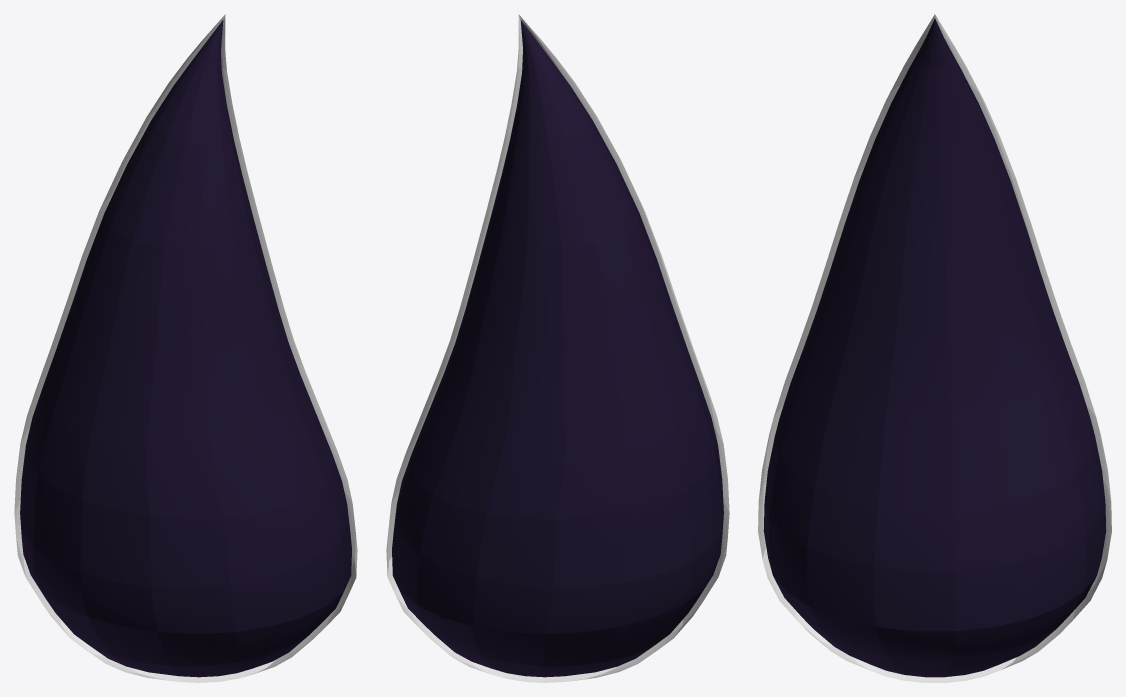
File: stolasTree0.glb
3 renders of one model, left to right at view 1: azimuth 30°, elevation 25°; view 2: azimuth 150°, elevation 25°; view 3: azimuth 270°, elevation 25°, orthographic. The views are drawn at different scales.
Parts seen in each view (by area): view 1: stolasTree0_LOD0; view 2: stolasTree0_LOD0; view 3: stolasTree0_LOD0.
Boxes of the visible parts, x1=… form: stolasTree0_LOD0: x1=14, y1=14, x2=357, y2=682; stolasTree0_LOD0: x1=386, y1=14, x2=729, y2=682; stolasTree0_LOD0: x1=758, y1=14, x2=1111, y2=682.
Size of what is drawn, in the model's own units: 6.2 by 12.62 by 6.22.
Materials: 2 (1 with a texture image).
